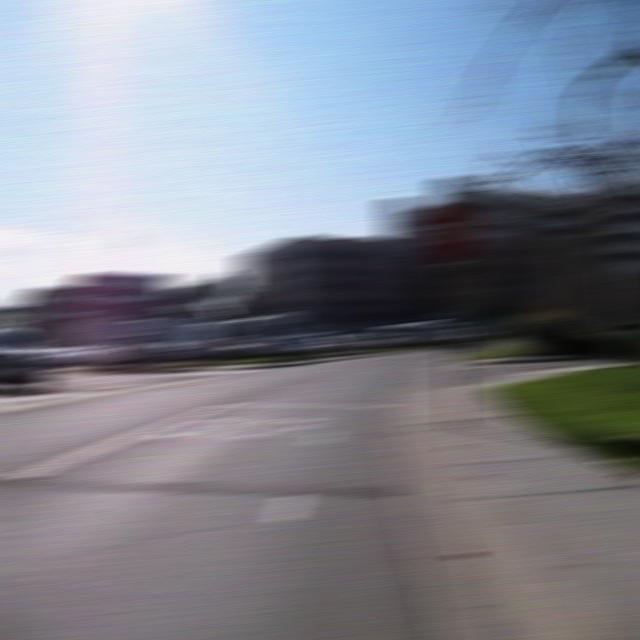stop: (420, 202, 482, 263)
